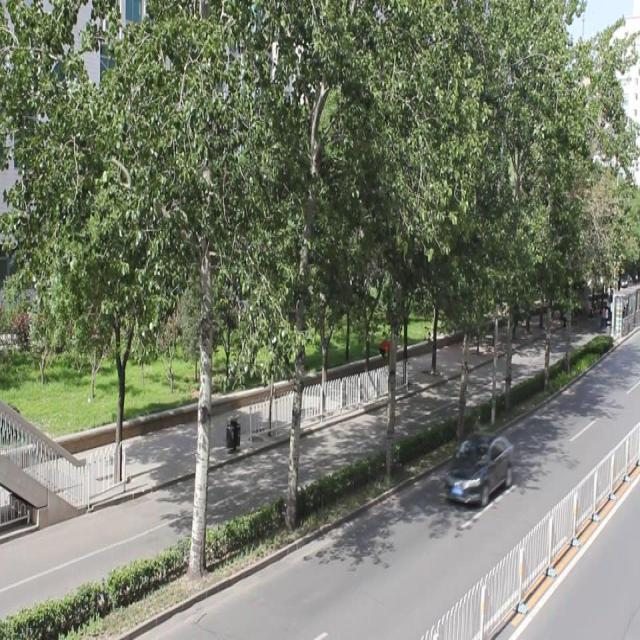car: (444, 430, 512, 504)
